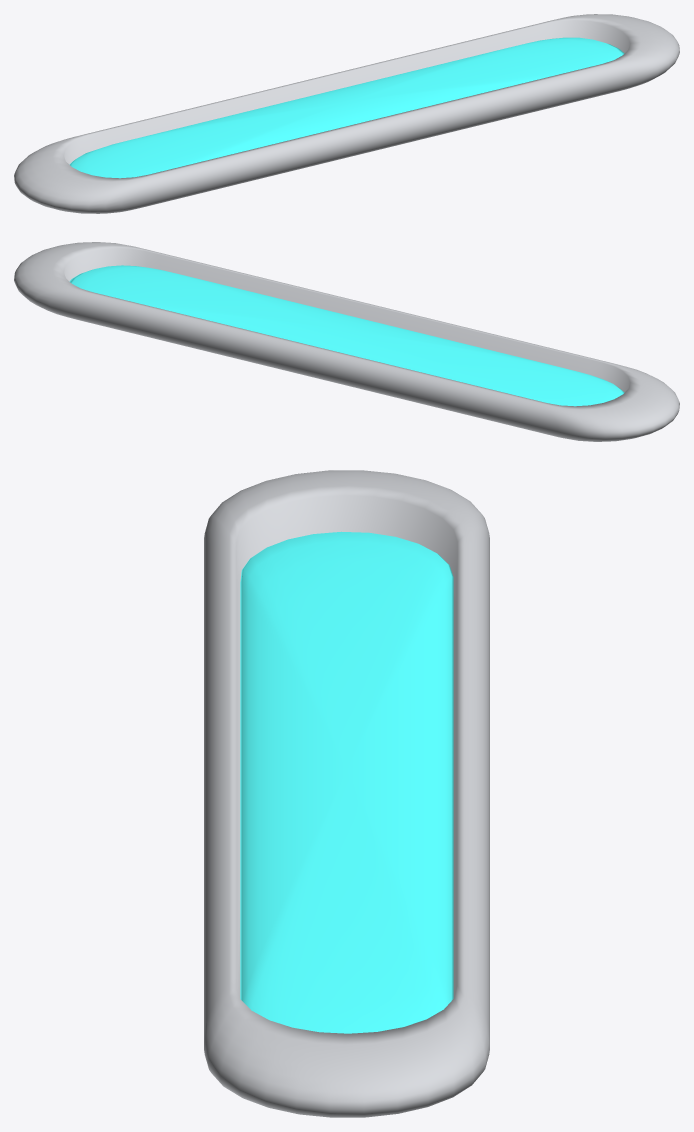
Rendered from gem_button.glb.
3 views of the same model, one above another, from view 1: azimuth 30°, elevation 25°; view 2: azimuth 150°, elevation 25°; view 3: azimuth 270°, elevation 25° (orthographic). The views are drawn at different scales.
Parts seen in each view (by area): view 1: Frame, Stone; view 2: Frame, Stone; view 3: Stone, Frame.
Part boxes in pixels (<box>): Frame: <box>14,14,679,213</box>; Stone: <box>69,37,624,178</box>; Frame: <box>14,242,679,441</box>; Stone: <box>69,265,624,406</box>; Stone: <box>240,531,453,1033</box>; Frame: <box>204,470,489,1117</box>.
Size of the model in its own units: 4.59 by 0.2 by 0.88.
